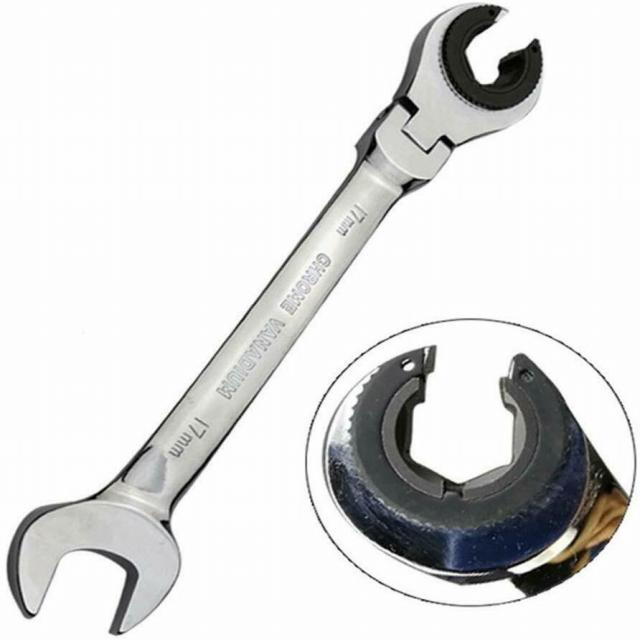wrench: (7, 0, 550, 638)
